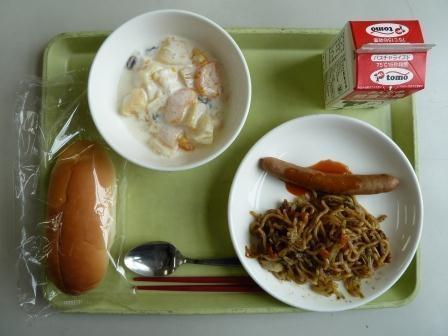Bread: (31, 119, 133, 295)
Fried noodles: (270, 204, 392, 308)
Milk: (326, 14, 441, 113)
salad with sauce: (96, 13, 251, 163)
sausages: (257, 136, 403, 195)
